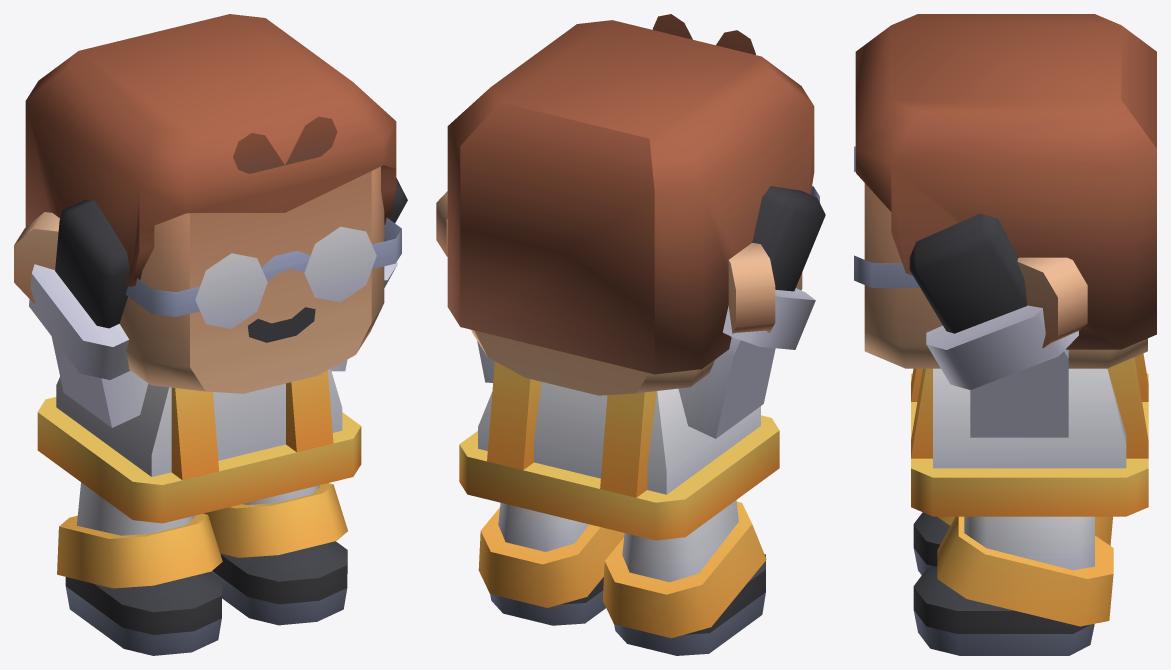
Rendered from people-male-e-idle.glb.
3 views of the same model, side by side, from view 1: azimuth 30°, elevation 25°; view 2: azimuth 150°, elevation 25°; view 3: azimuth 270°, elevation 25° (orthographic). The views are drawn at different scales.
Visible parts, largest first — view 1: character-male-e-idle; view 2: character-male-e-idle; view 3: character-male-e-idle.
Part boxes in pixels (bbox=[...]): character-male-e-idle: bbox=[14, 14, 407, 655]; character-male-e-idle: bbox=[436, 14, 825, 655]; character-male-e-idle: bbox=[854, 14, 1156, 655].
Size of the model in its own units: 0.4535 by 0.676 by 0.342.
Materials: 1 (1 with a texture image).
